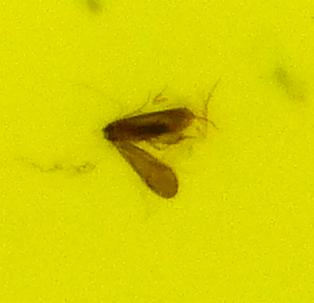Trichoptera: (100, 100, 214, 203)
